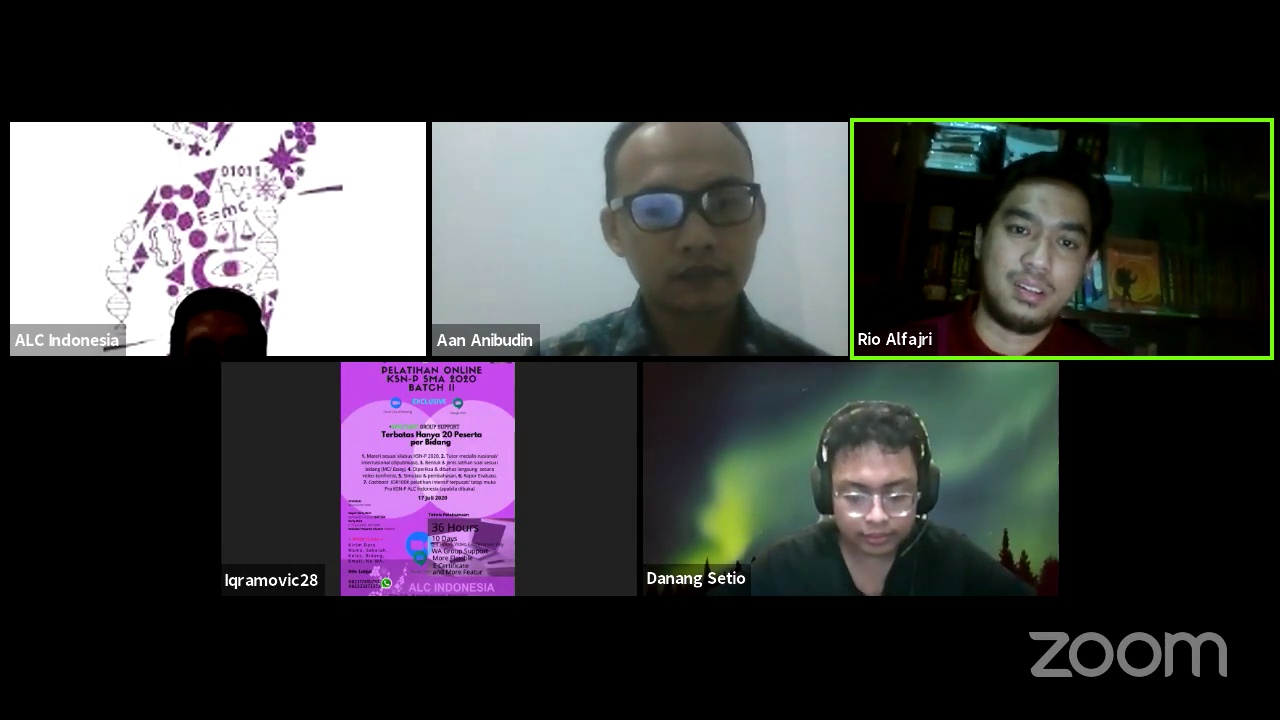Distracted: (810, 421, 940, 558)
Not Distracted: (593, 133, 783, 317), (961, 174, 1120, 326)
